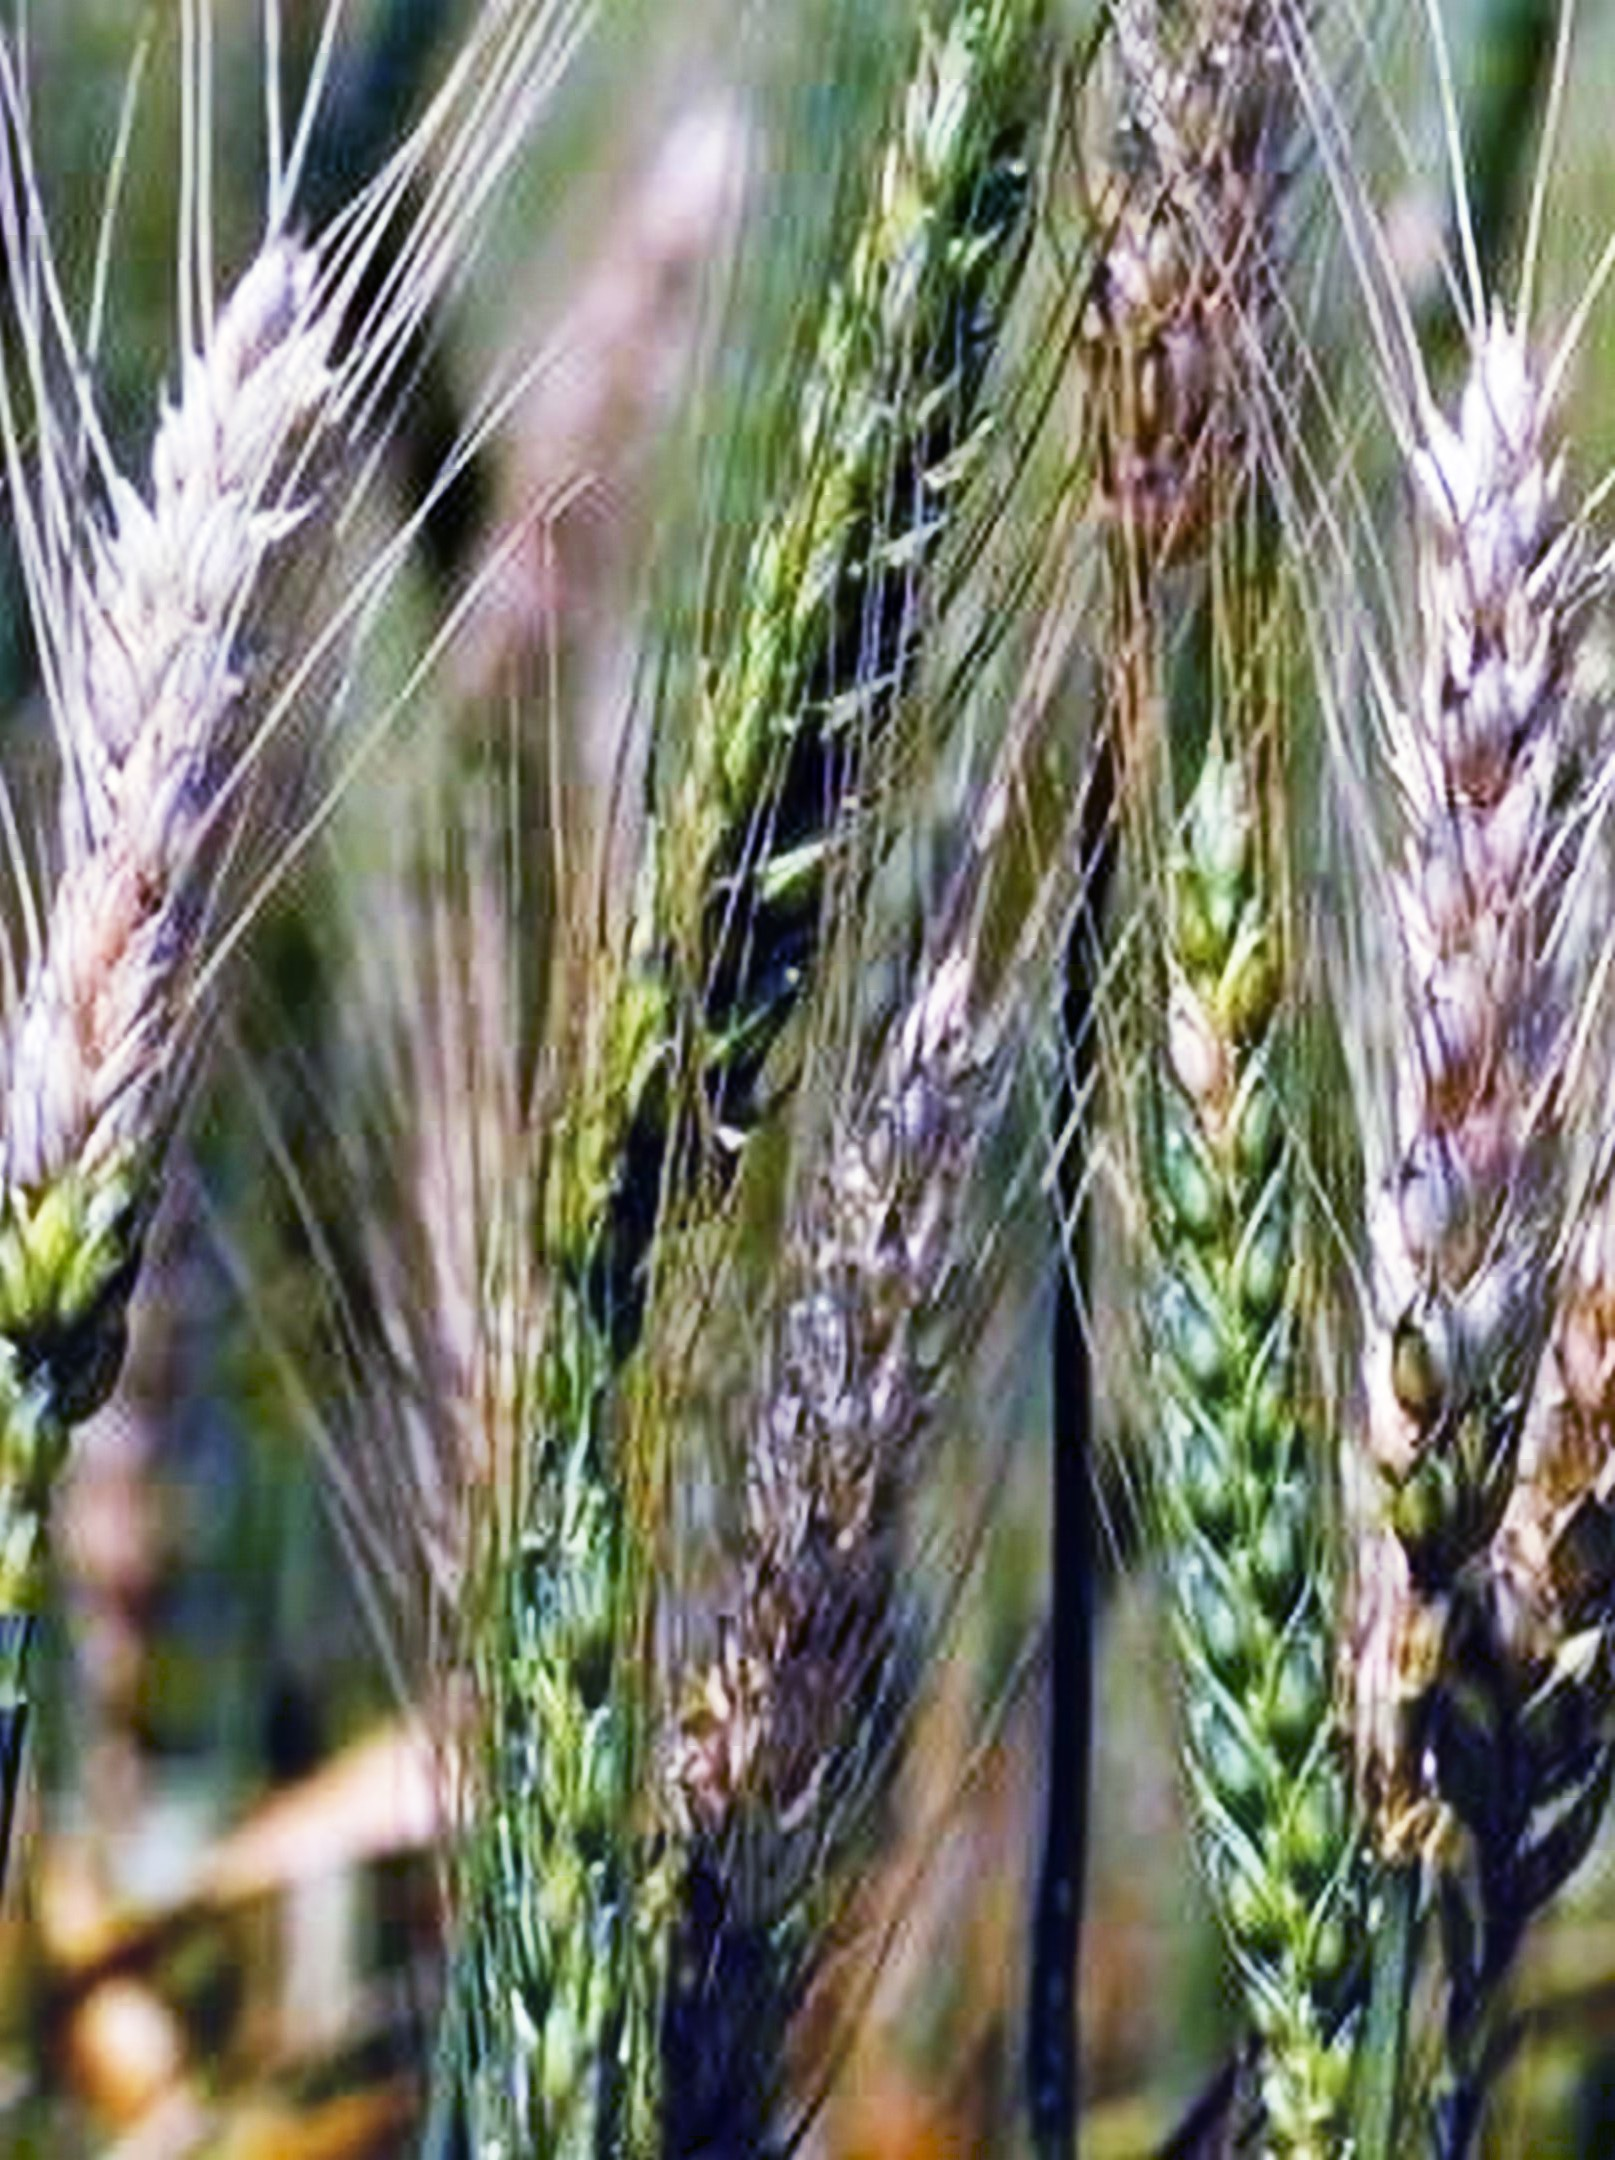Wheat scab: (2, 222, 383, 1351)
